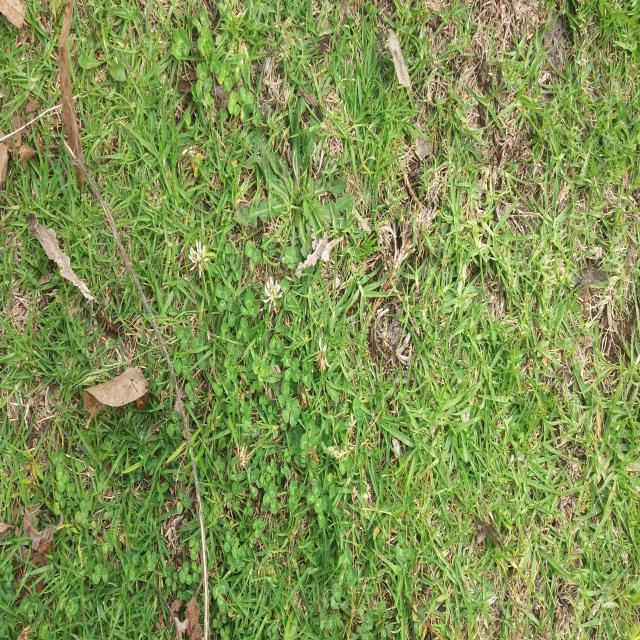Four Leaf Clover: (166, 264, 212, 298), (282, 397, 301, 427)
